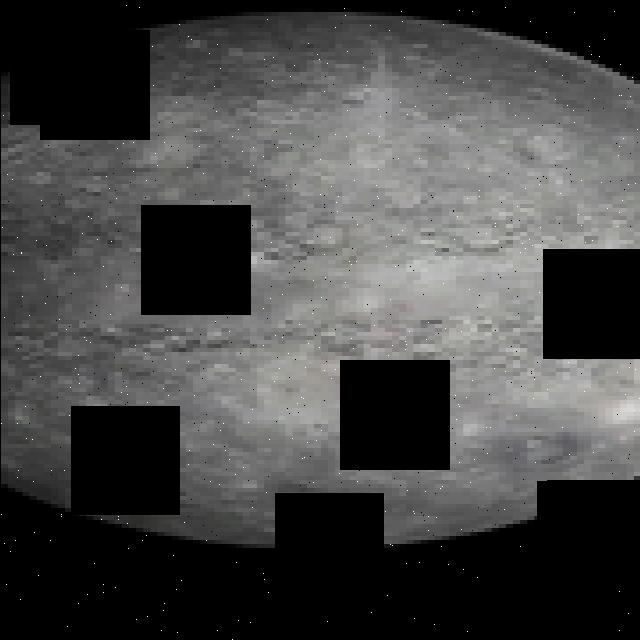Mercury: (0, 12, 640, 556)
